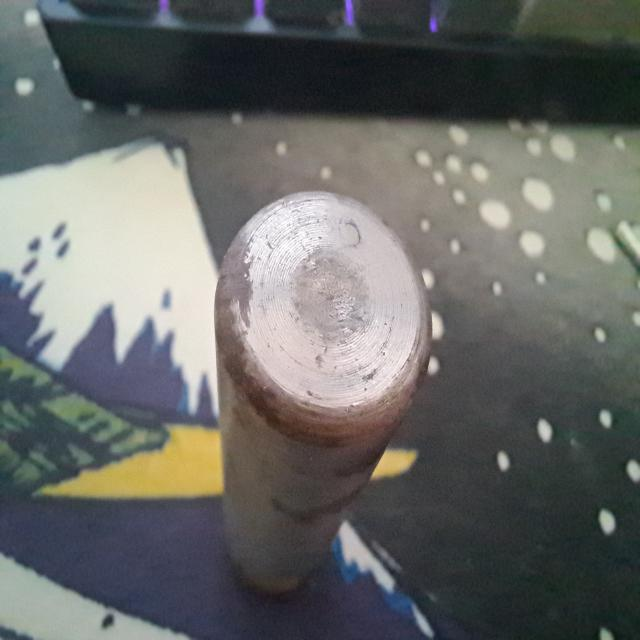defect: (334, 213, 363, 251)
planson: (213, 183, 433, 596)
